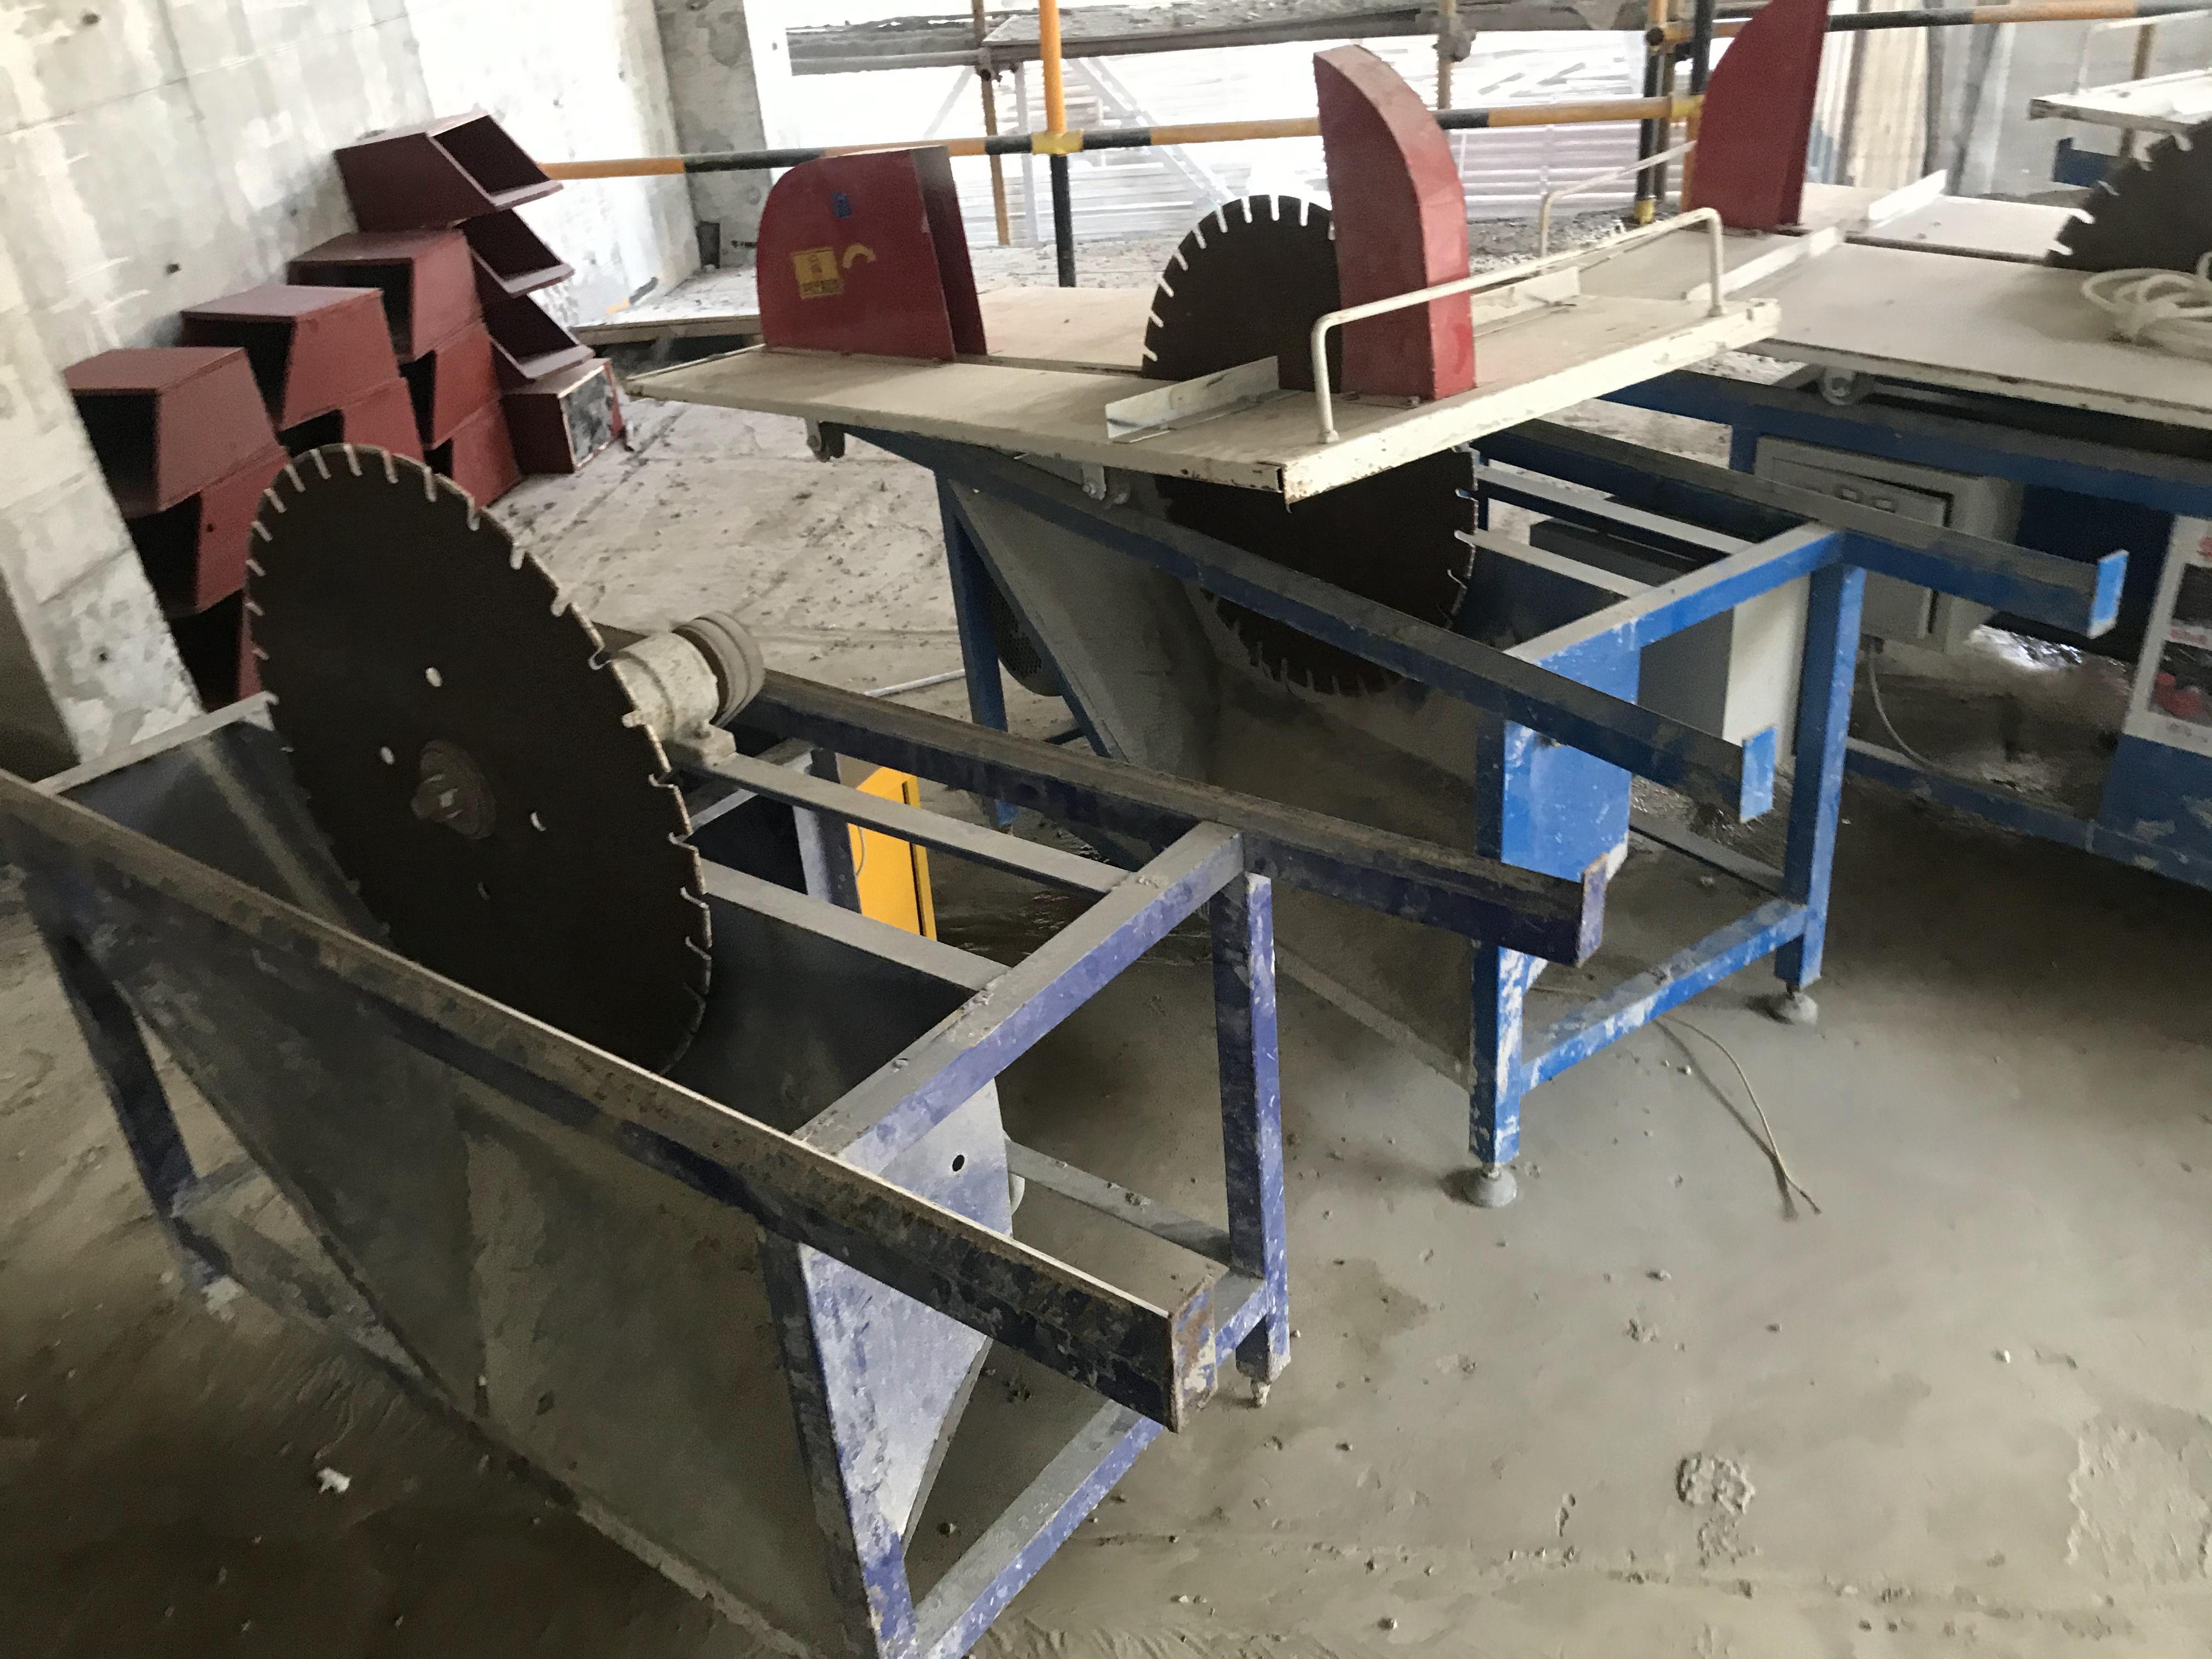cutter: (9, 441, 1594, 1659), (700, 47, 1820, 1209), (1642, 0, 2212, 885)
